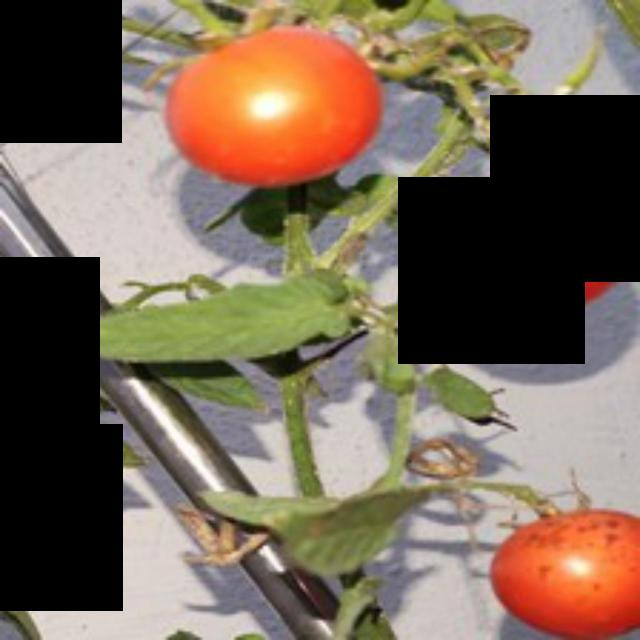tomato: (154, 19, 388, 202), (431, 160, 636, 314), (480, 497, 637, 637)
